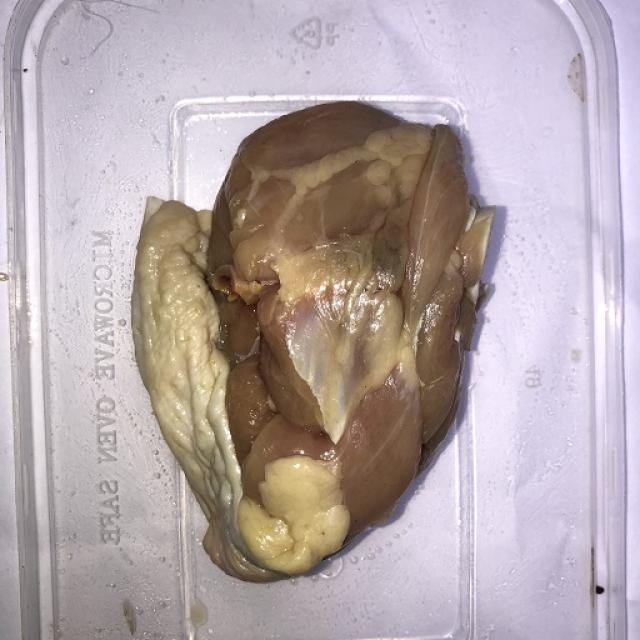chicken: (130, 99, 495, 582)
